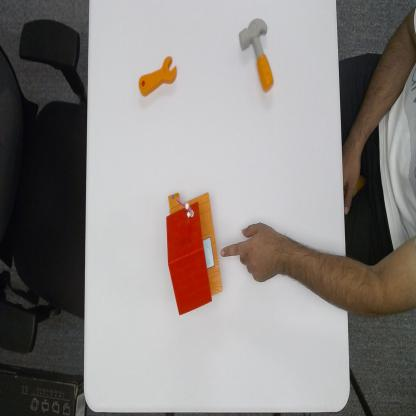Arm: (288, 235, 416, 318)
Hammer: (238, 16, 276, 96)
Hand: (220, 220, 288, 286)
House: (165, 189, 224, 318)
Screwdriver: (138, 54, 178, 99)
